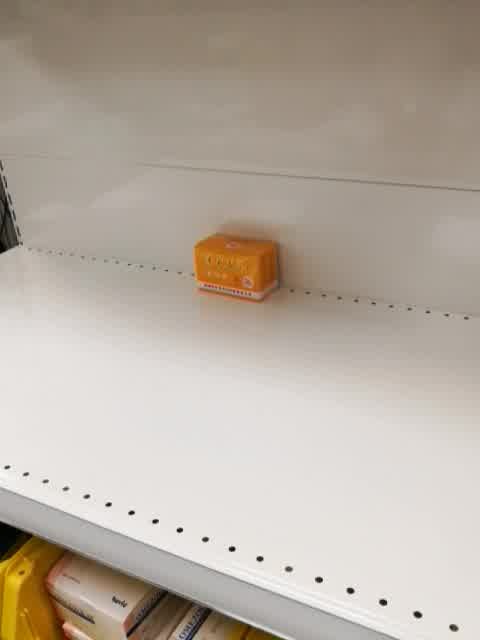jasminetea: (193, 233, 283, 305)
